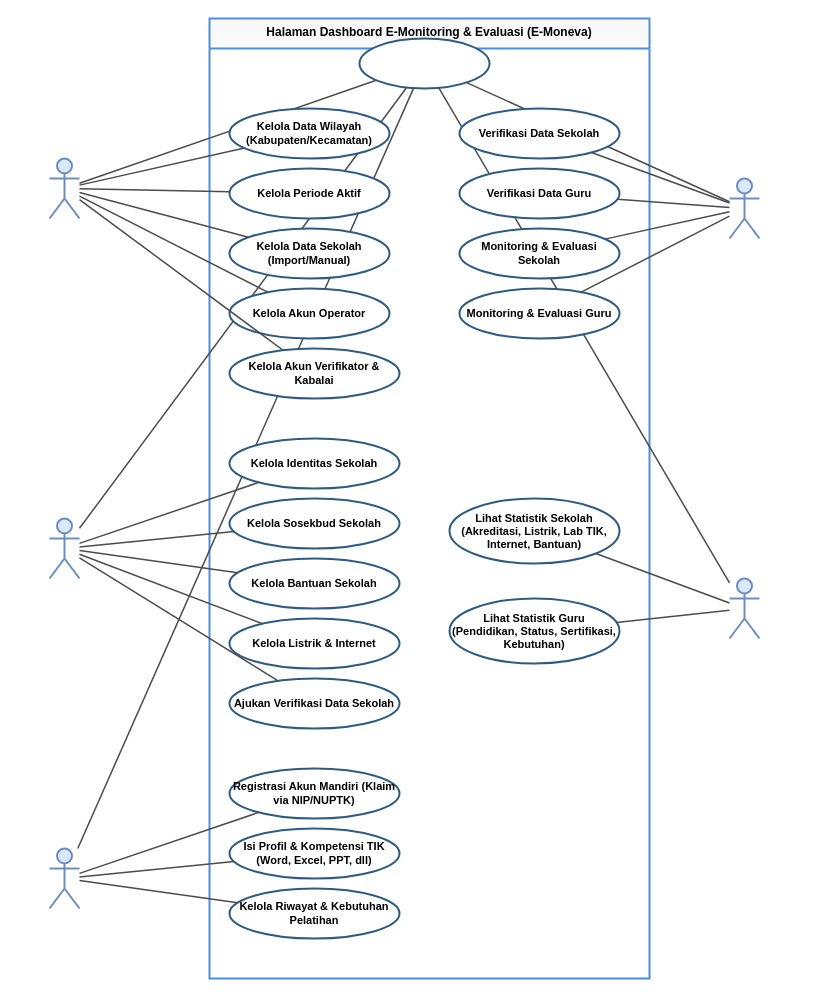
This 821x996 diagram has some shape labels left out. Each missing label, with the centre of its shape:
Administrator: the point at 64,188
Guru: the point at 64,878
Kabalai (Kepala BTKI): the point at 744,608
Login / Otentikasi (Akses Dashboard): the point at 424,63
Operator Sekolah: the point at 64,548
Verifikator: the point at 744,208
